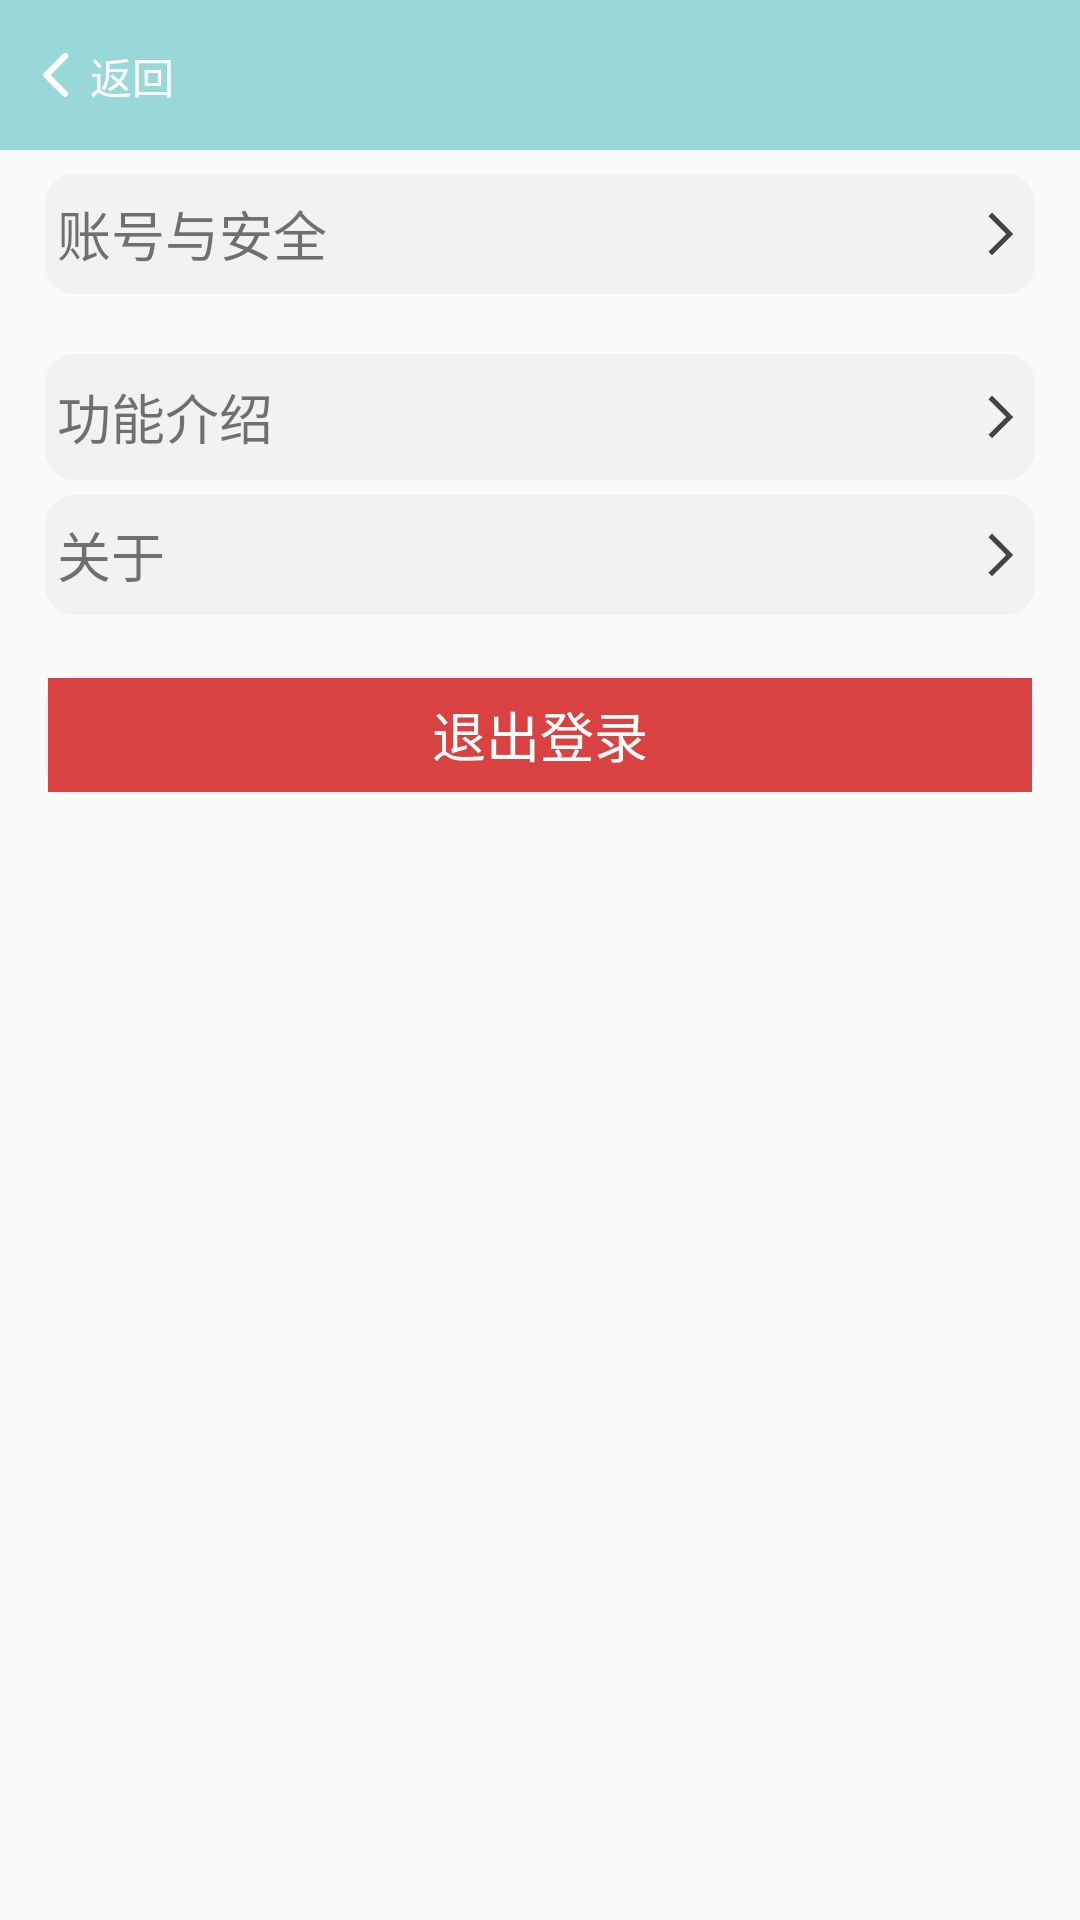

Screen size 1080w x 1920h. Icon name, then its center in pixels as (x=x, y=y):
next: (x=1000, y=234), (x=1000, y=417), (x=1000, y=555)
